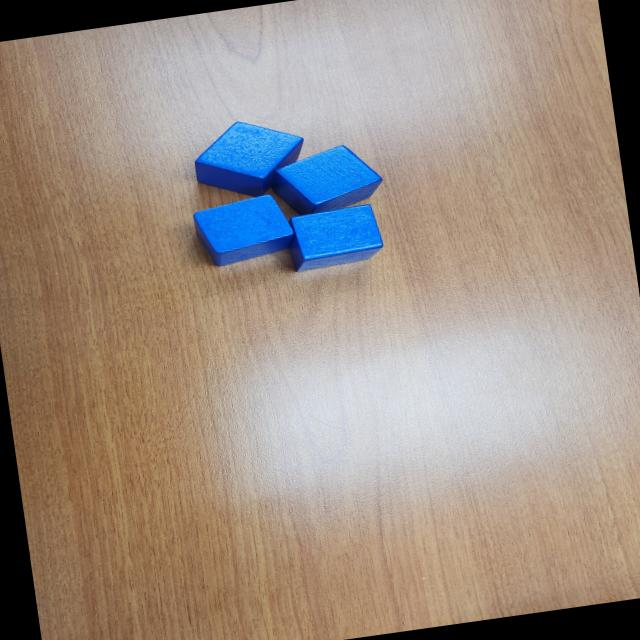blue: (188, 111, 312, 206), (270, 140, 388, 218), (191, 192, 299, 272), (284, 202, 386, 273)
